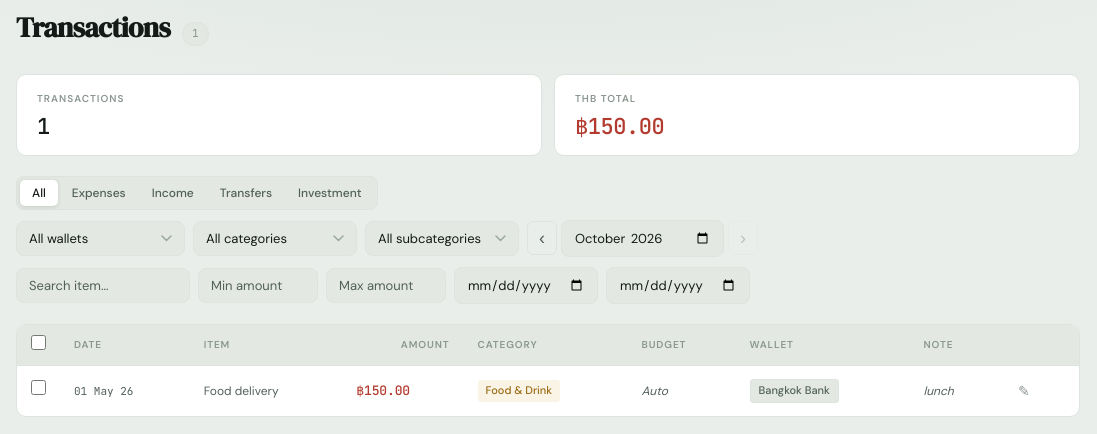
assigns a transaction to a budget line from the Budget cell
Double-click the text "Auto": {"x": 655, "y": 391} [642, 383, 668, 399]
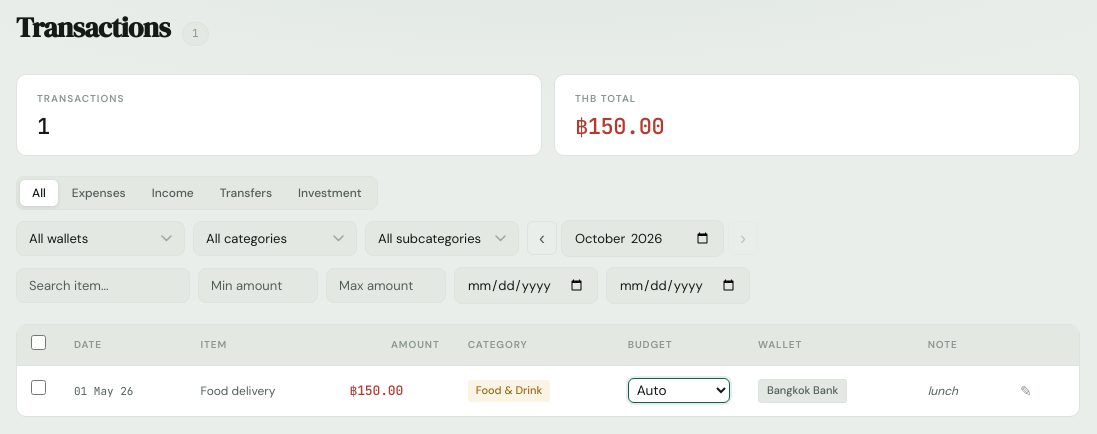
Select "Dad" in the 4th dropdown: {"x": 679, "y": 391} [628, 378, 730, 404]
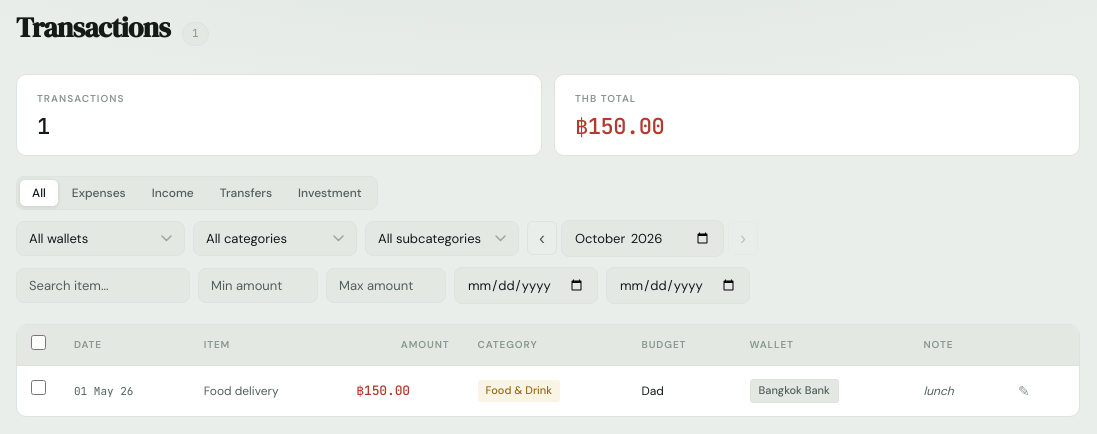
Expected: the text "Dad" is shown, [642, 383, 664, 399]
